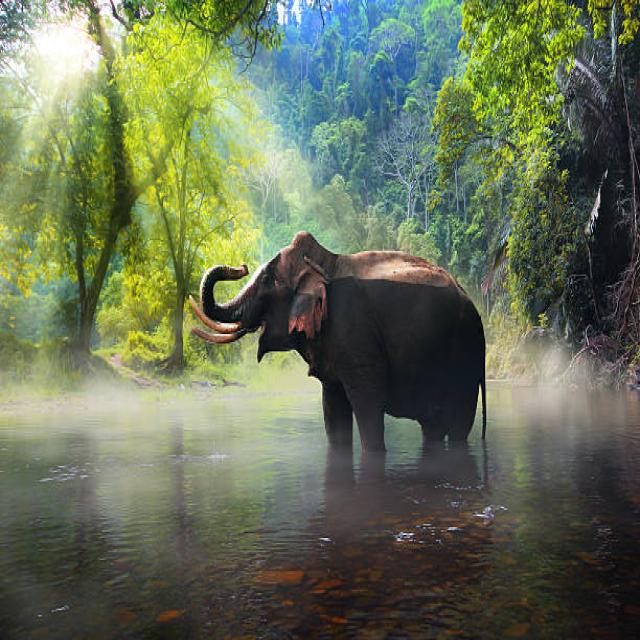Elephant: (184, 222, 494, 454)
